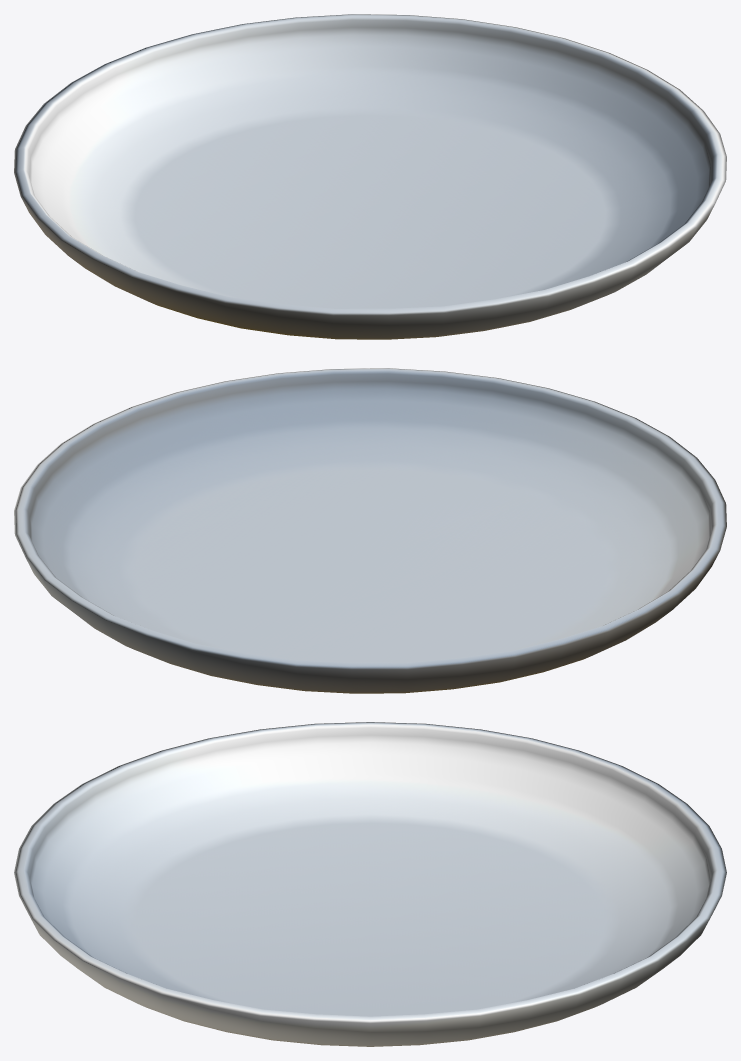
The model's file is Largeplate.fbx.
The picture shows the model from 3 angles, top to bottom: view 1: azimuth 30°, elevation 25°; view 2: azimuth 150°, elevation 25°; view 3: azimuth 270°, elevation 25°; orthographic projection.
Visible parts, largest first — view 1: Largeplate; view 2: Largeplate; view 3: Largeplate.
Boxes of the visible parts, left/top/right/bottom form: Largeplate: left=14, top=14, right=726, bottom=339; Largeplate: left=14, top=368, right=726, bottom=693; Largeplate: left=14, top=722, right=726, bottom=1046.
Size of the model in its own units: 39.01 by 3.69 by 39.01.
